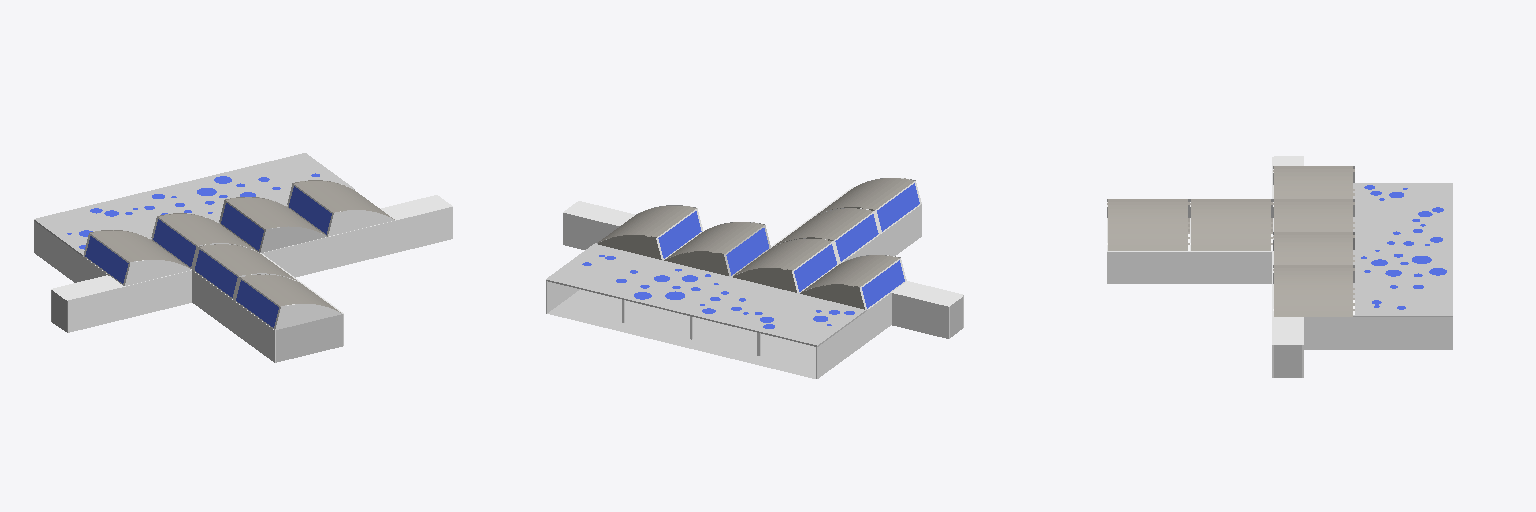
File: UEM_Project.obj
3 views of the same model, side by side, from view 1: azimuth 30°, elevation 25°; view 2: azimuth 150°, elevation 25°; view 3: azimuth 270°, elevation 25° (orthographic).
Parts seen in each view (by area): view 1: Mesh65 Model, Mesh14 Poteau_3_1 Model, Mesh13 Poteau_4_1 Model, Mesh5 Shed_3_1 Model, Mesh2 Shed1 Model, Mesh7 Shed2 Model, Mesh24 Shed_1_2 Model, Mesh26 Shed_2_1 Model, Mesh20 Poteau_5_2 Model, Mesh22 Shed_1_1 Model, Mesh63 Model, Mesh11 Poteau_1_1 Model (+2 smaller); view 2: Mesh65 Model, Mesh64 Model, Mesh2 Shed1 Model, Mesh7 Shed2 Model, Mesh5 Shed_3_1 Model, Mesh26 Shed_2_1 Model, Mesh22 Shed_1_1 Model, Mesh24 Shed_1_2 Model, Mesh11 Poteau_1_1 Model, Mesh16 Poteau_2_2 Model, Mesh20 Poteau_5_2 Model, Mesh15 Poteau_2_1 Model (+3 smaller); view 3: Mesh65 Model, Mesh19 Poteau_5_1 Model, Mesh12 Poteau_1_2 Model, Mesh22 Shed_1_1 Model, Mesh24 Shed_1_2 Model, Mesh2 Shed1 Model, Mesh7 Shed2 Model, Mesh26 Shed_2_1 Model, Mesh5 Shed_3_1 Model, Mesh67 Model, Mesh17 Component_1_1 Model.
Boxes of the visible parts, <box> form: Mesh65 Model: <box>34,153,354,256</box>; Mesh14 Poteau_3_1 Model: <box>260,206,452,277</box>; Mesh13 Poteau_4_1 Model: <box>67,270,191,332</box>; Mesh5 Shed_3_1 Model: <box>219,197,326,252</box>; Mesh2 Shed1 Model: <box>287,180,394,236</box>; Mesh7 Shed2 Model: <box>84,230,191,285</box>; Mesh24 Shed_1_2 Model: <box>234,274,341,329</box>; Mesh26 Shed_2_1 Model: <box>151,213,258,268</box>; Mesh20 Poteau_5_2 Model: <box>192,270,275,362</box>; Mesh22 Shed_1_1 Model: <box>192,244,299,299</box>; Mesh63 Model: <box>276,314,342,362</box>; Mesh11 Poteau_1_1 Model: <box>34,221,108,282</box>; Mesh65 Model: <box>546,243,866,346</box>; Mesh64 Model: <box>547,289,815,378</box>; Mesh2 Shed1 Model: <box>597,205,702,259</box>; Mesh7 Shed2 Model: <box>800,255,906,309</box>; Mesh5 Shed_3_1 Model: <box>664,222,770,276</box>; Mesh26 Shed_2_1 Model: <box>733,238,838,292</box>; Mesh22 Shed_1_1 Model: <box>773,208,879,263</box>; Mesh24 Shed_1_2 Model: <box>814,178,921,233</box>; Mesh11 Poteau_1_1 Model: <box>816,292,891,378</box>; Mesh16 Poteau_2_2 Model: <box>892,292,949,338</box>; Mesh20 Poteau_5_2 Model: <box>842,204,921,262</box>; Mesh15 Poteau_2_1 Model: <box>563,212,619,249</box>; Mesh65 Model: <box>1353,183,1452,316</box>; Mesh19 Poteau_5_1 Model: <box>1107,251,1273,283</box>; Mesh12 Poteau_1_2 Model: <box>1304,317,1452,349</box>; Mesh22 Shed_1_1 Model: <box>1190,199,1272,250</box>; Mesh24 Shed_1_2 Model: <box>1107,199,1189,250</box>; Mesh2 Shed1 Model: <box>1273,265,1354,316</box>; Mesh7 Shed2 Model: <box>1273,166,1354,198</box>; Mesh26 Shed_2_1 Model: <box>1273,199,1354,231</box>; Mesh5 Shed_3_1 Model: <box>1273,232,1354,264</box>; Mesh67 Model: <box>1274,345,1301,377</box>; Mesh17 Component_1_1 Model: <box>1274,317,1301,344</box>.
Size of the model in its own units: 5155 by 695 by 3995.